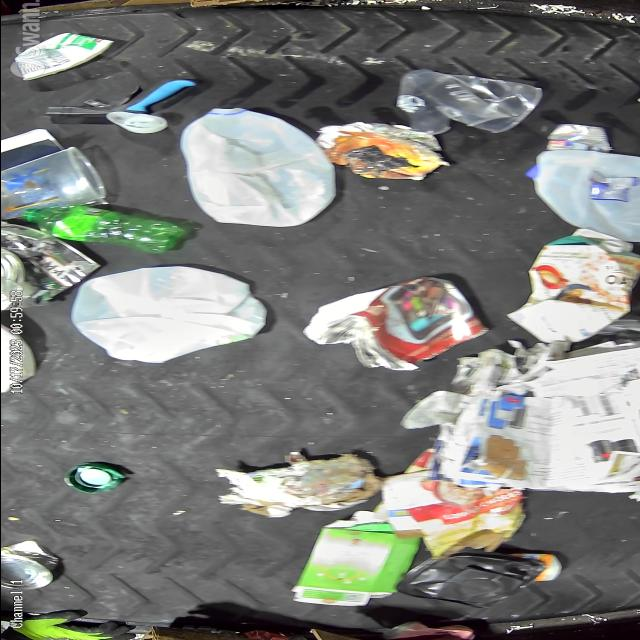can: (0, 541, 57, 591), (544, 123, 612, 153)
milk_jug: (178, 105, 338, 228), (70, 268, 262, 365), (522, 148, 640, 240)
non_white_jug: (505, 229, 640, 344), (290, 516, 420, 606)
